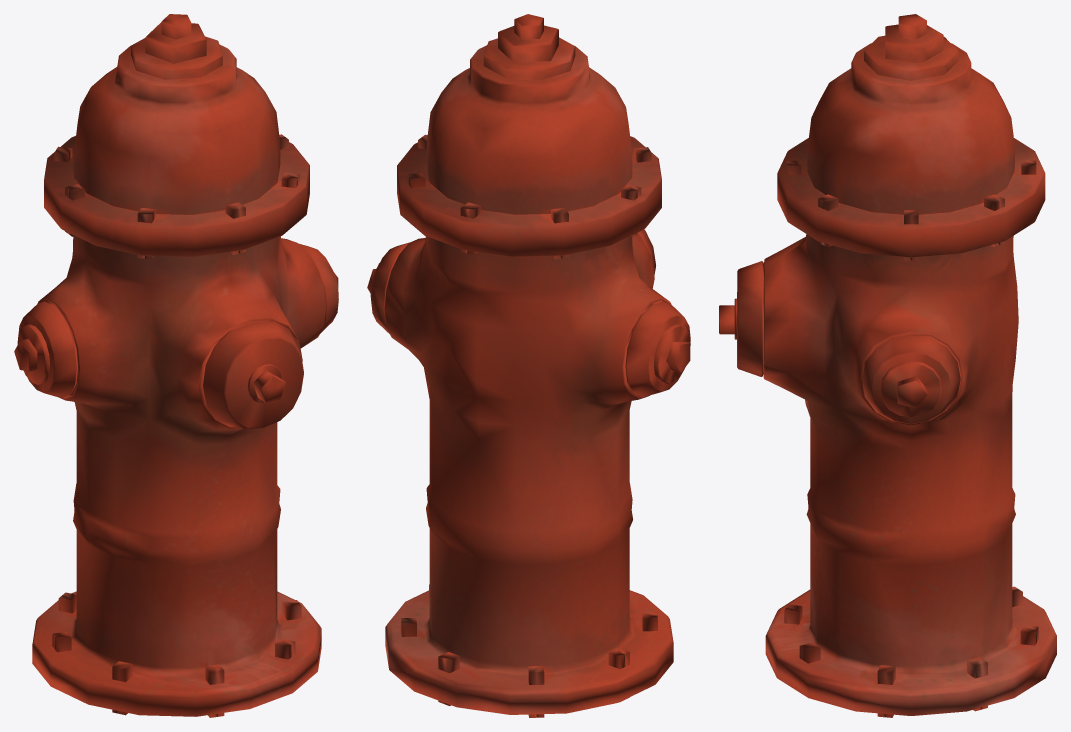
File: o3_idrante.glb
3 renders of one model, left to right at view 1: azimuth 30°, elevation 25°; view 2: azimuth 150°, elevation 25°; view 3: azimuth 270°, elevation 25°, orthographic.
Visible parts, largest first — view 1: sb_modello; view 2: sb_modello; view 3: sb_modello.
Part boxes in pixels (x1=…): sb_modello: x1=14, y1=14, x2=338, y2=717; sb_modello: x1=367, y1=14, x2=690, y2=717; sb_modello: x1=719, y1=14, x2=1056, y2=717.
Bounding box in the file's own units: 0.4617 × 0.92 × 0.4372.
1 material, 1 textured.
